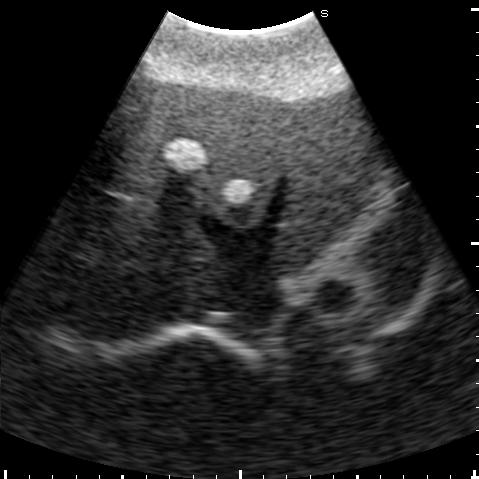S2: (270, 102, 380, 276)
S4: (120, 63, 299, 230)
S7: (60, 272, 168, 341)
S8: (97, 133, 213, 277)
Tumor: (162, 138, 204, 172), (220, 179, 253, 205)
